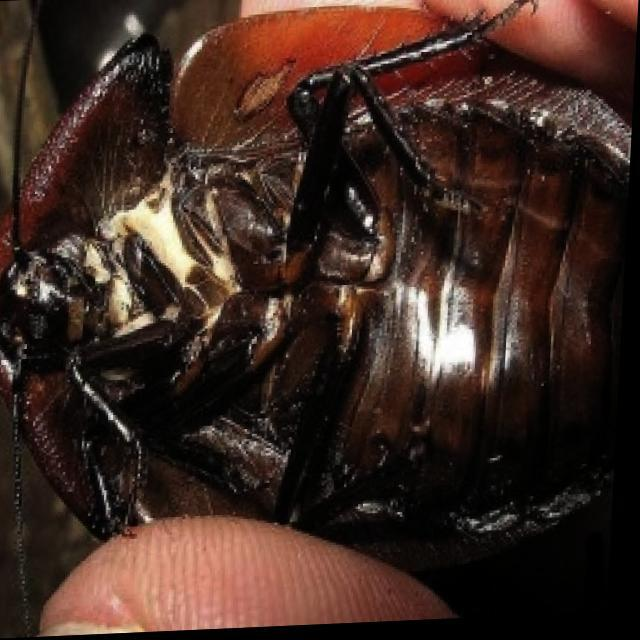cockroach: (0, 1, 638, 620)
